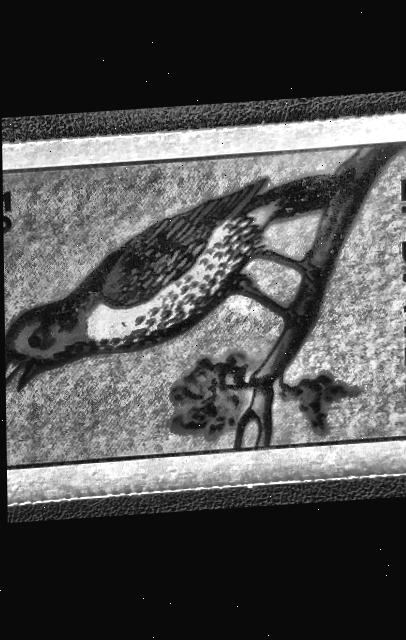El Pajaro: (2, 137, 406, 477)
